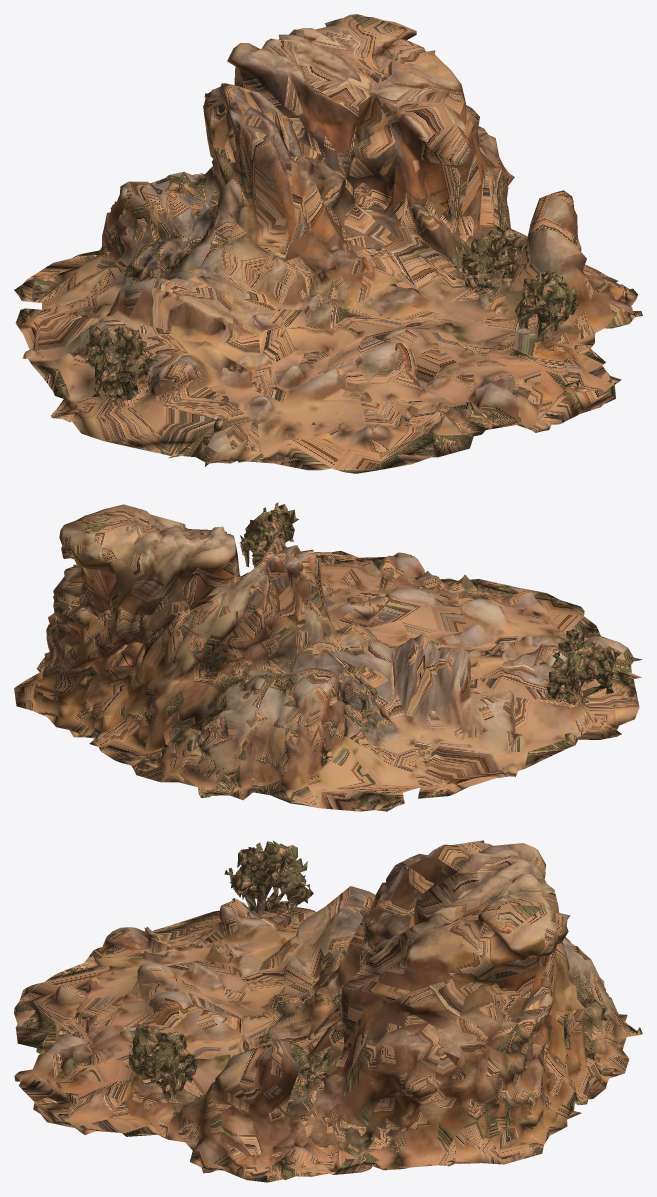
The model's file is Desert_Rock_Formation.glb.
3 views of the same model, one above another, from view 1: azimuth 30°, elevation 25°; view 2: azimuth 150°, elevation 25°; view 3: azimuth 270°, elevation 25° (orthographic). The views are drawn at different scales.
Parts seen in each view (by area): view 1: Desert_Rock_Formation; view 2: Desert_Rock_Formation; view 3: Desert_Rock_Formation.
Part boxes in pixels (x1=…): Desert_Rock_Formation: x1=14, y1=14, x2=642, y2=473; Desert_Rock_Formation: x1=14, y1=502, x2=642, y2=811; Desert_Rock_Formation: x1=14, y1=840, x2=642, y2=1182.
Bounding box in the file's own units: 1.89 × 0.676 × 1.8.
1 material, 1 textured.
